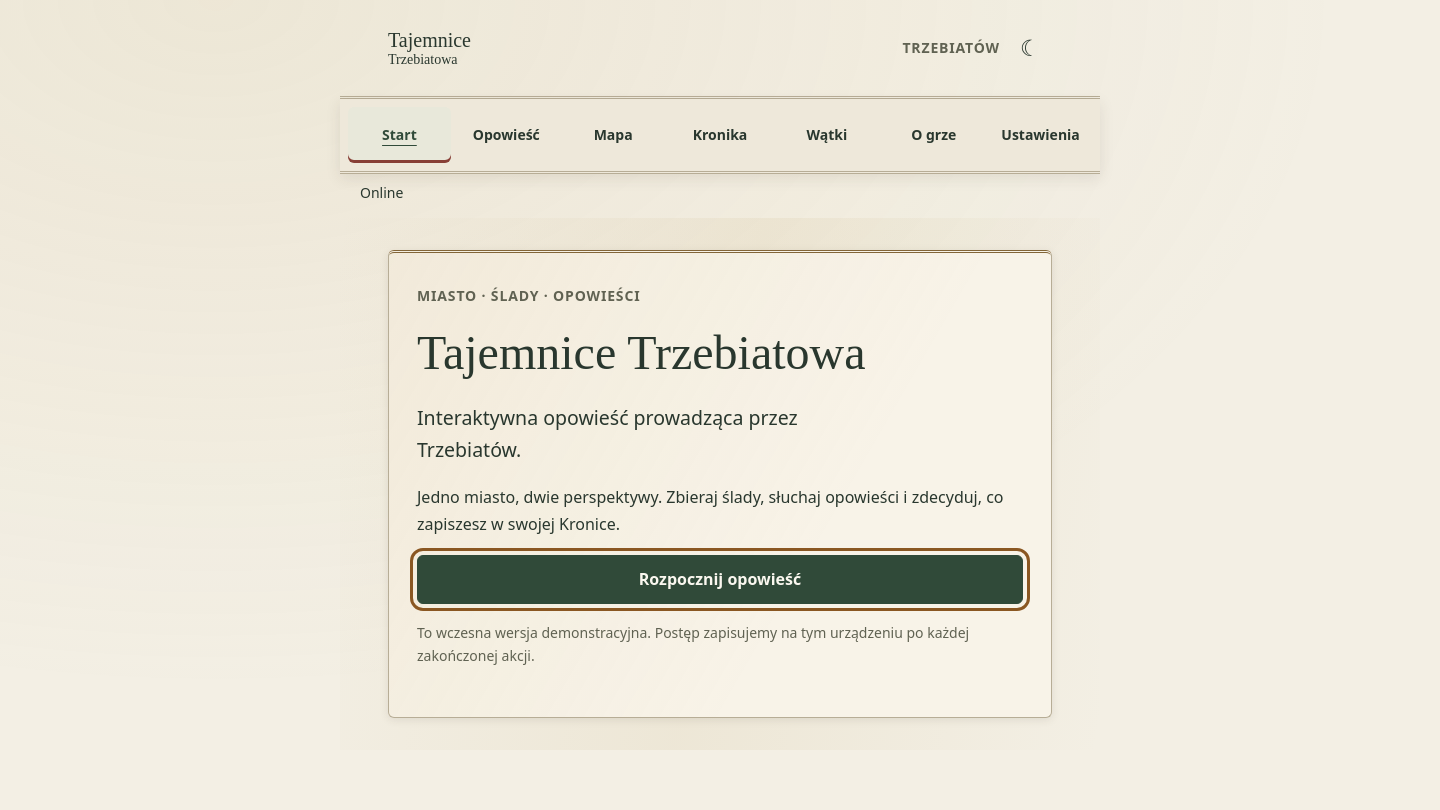
Test: start jest semantyczny, bez spoilerow i bez ladowania silnika
This screenshot has width=1440, height=810.
Expected: the heading "Tajemnice Trzebiatowa" is shown, [417,326,866,379]
Expected: the element that starts with "Miasto · ślady · opowieści" is shown, [340,218,1100,750]
Step 1. Click the button "Kronika" → (720, 135), box [669,107,772,163]
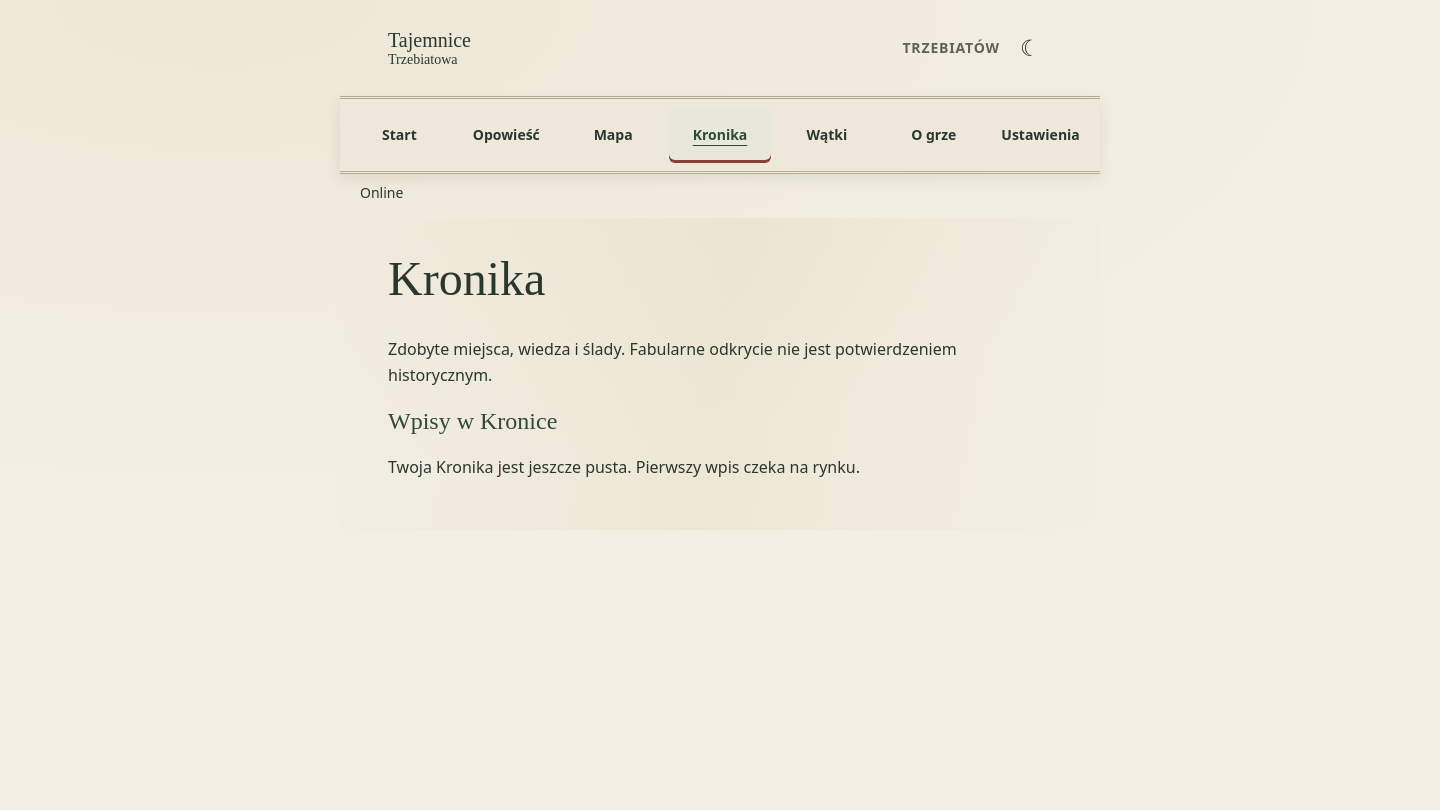
Expected: the text "Kronika jest jeszcze pusta" is shown, [388,456,860,478]
